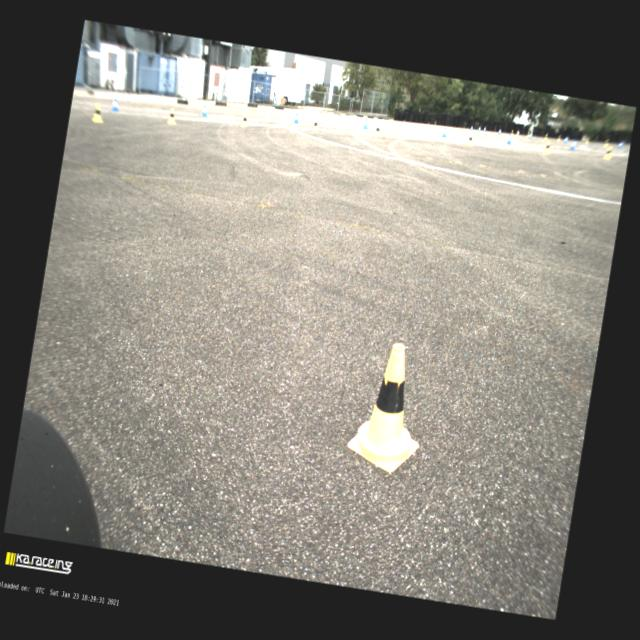blue_cone: (111, 98, 121, 112), (202, 105, 210, 117), (363, 118, 370, 130), (441, 126, 448, 138), (506, 134, 513, 145), (294, 112, 300, 124), (570, 140, 576, 151), (563, 136, 568, 144), (618, 142, 623, 150), (498, 128, 502, 136), (470, 125, 474, 132), (528, 132, 532, 139), (478, 126, 482, 132), (484, 126, 486, 132)
yellow_cone: (345, 338, 434, 476), (92, 103, 105, 124), (167, 108, 178, 126), (240, 112, 250, 128), (373, 122, 383, 137), (602, 146, 612, 160), (543, 140, 552, 154), (312, 118, 321, 132), (465, 132, 474, 146), (603, 138, 609, 148), (515, 130, 520, 137), (557, 134, 561, 142), (544, 133, 548, 141), (510, 130, 514, 137), (526, 132, 530, 138), (586, 138, 590, 144)
